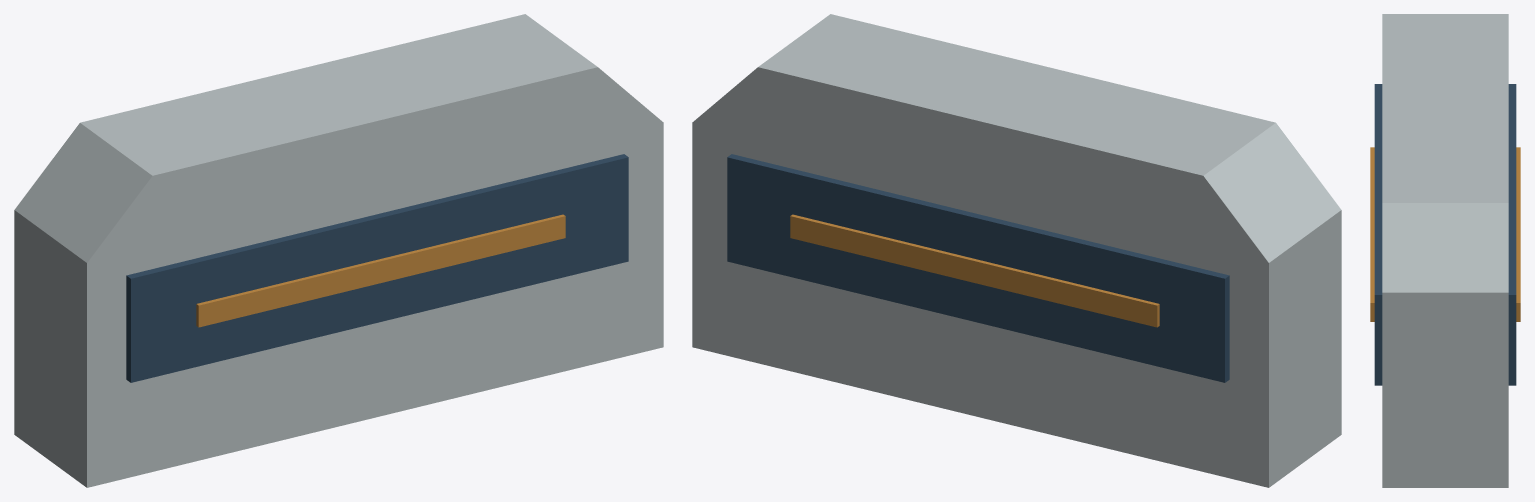
File: SpaceStation_BulkheadBaffle_Simple.glb
3 views of the same model, side by side, from view 1: azimuth 30°, elevation 25°; view 2: azimuth 150°, elevation 25°; view 3: azimuth 270°, elevation 25° (orthographic). The views are drawn at different scales.
Parts seen in each view (by area): view 1: SpaceStation_BulkheadBaffle_Simple; view 2: SpaceStation_BulkheadBaffle_Simple; view 3: SpaceStation_BulkheadBaffle_Simple.
Boxes of the visible parts, x1,y1,x2,y2 form: SpaceStation_BulkheadBaffle_Simple: (14,14,663,487); SpaceStation_BulkheadBaffle_Simple: (692,14,1341,487); SpaceStation_BulkheadBaffle_Simple: (1370,14,1520,487).
Size of the model in its own units: 2.2 by 1.08 by 0.5708.
